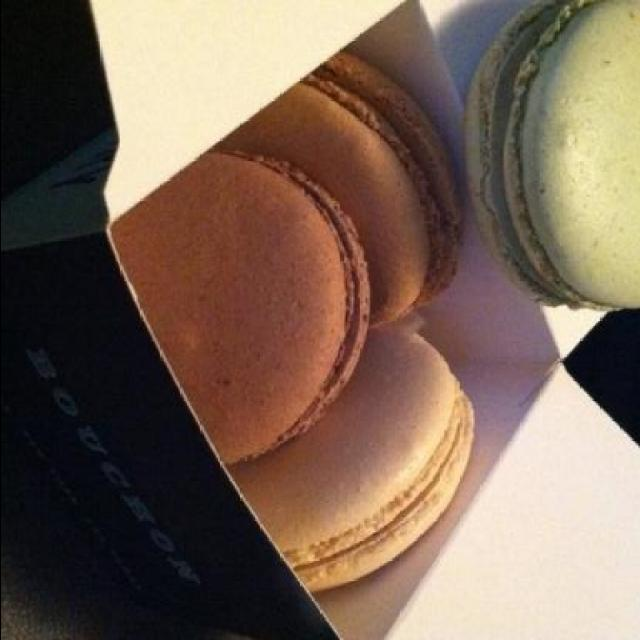Macaron: (123, 62, 466, 604), (471, 0, 638, 322)
